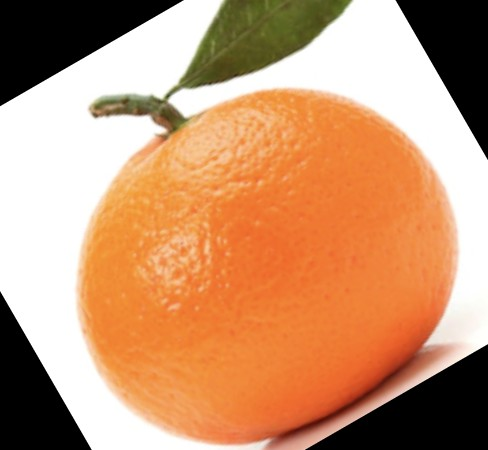fresh_orange: (74, 87, 460, 446)
